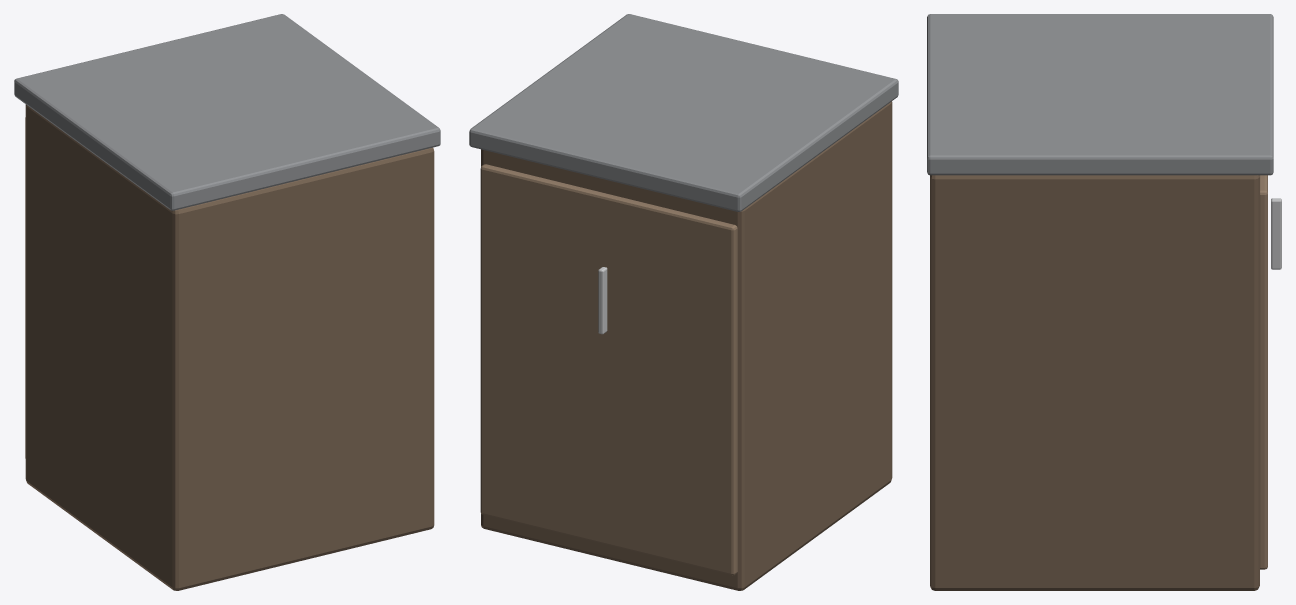
The model's file is cab_0_6.glb.
3 views of the same model, side by side, from view 1: azimuth 30°, elevation 25°; view 2: azimuth 150°, elevation 25°; view 3: azimuth 270°, elevation 25° (orthographic). The views are drawn at different scales.
Visible parts, largest first — view 1: cab_0_6; view 2: cab_0_6; view 3: cab_0_6.
Part boxes in pixels (box(x1,y1,x2,y2)): cab_0_6: box(14, 14, 440, 590); cab_0_6: box(469, 14, 898, 590); cab_0_6: box(927, 14, 1281, 590).
Bounding box in the file's own units: 0.62 × 0.88 × 0.645.
